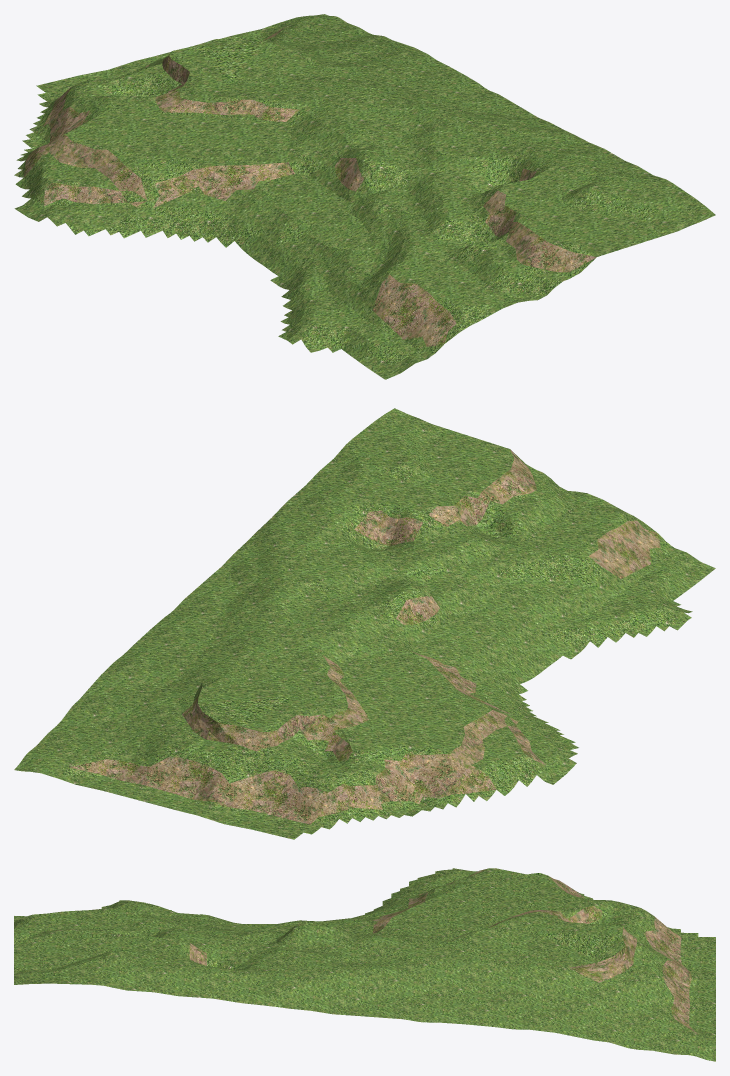
File: OuraElevationDec824.glb
3 views of the same model, one above another, from view 1: azimuth 30°, elevation 25°; view 2: azimuth 150°, elevation 25°; view 3: azimuth 270°, elevation 25° (orthographic). The views are drawn at different scales.
Parts seen in each view (by area): view 1: OuraDEM; view 2: OuraDEM; view 3: OuraDEM.
Boxes of the visible parts, <box> form: OuraDEM: <box>14,14,715,379</box>; OuraDEM: <box>14,408,715,839</box>; OuraDEM: <box>14,868,715,1061</box>.
Bounding box in the file's own units: 281 × 56.69 × 441.
Materials: 2 (2 with a texture image).
